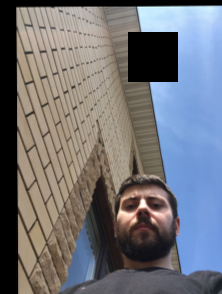without_mask: (117, 192, 172, 261)
